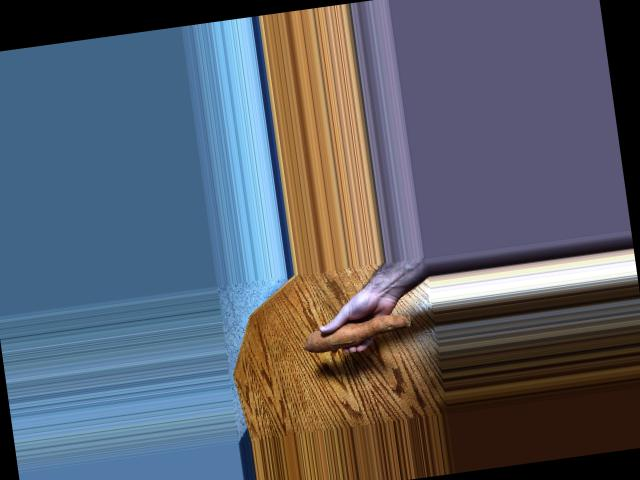sweet_potato: (298, 309, 418, 358)
